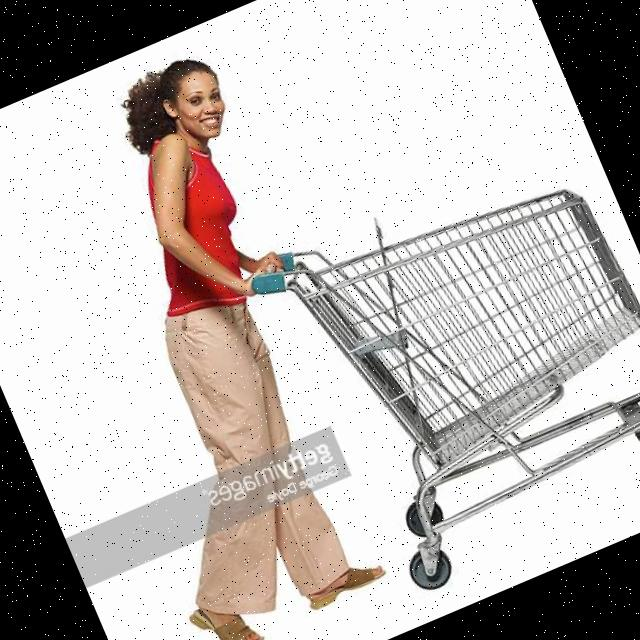Person: (0, 49, 427, 640)
